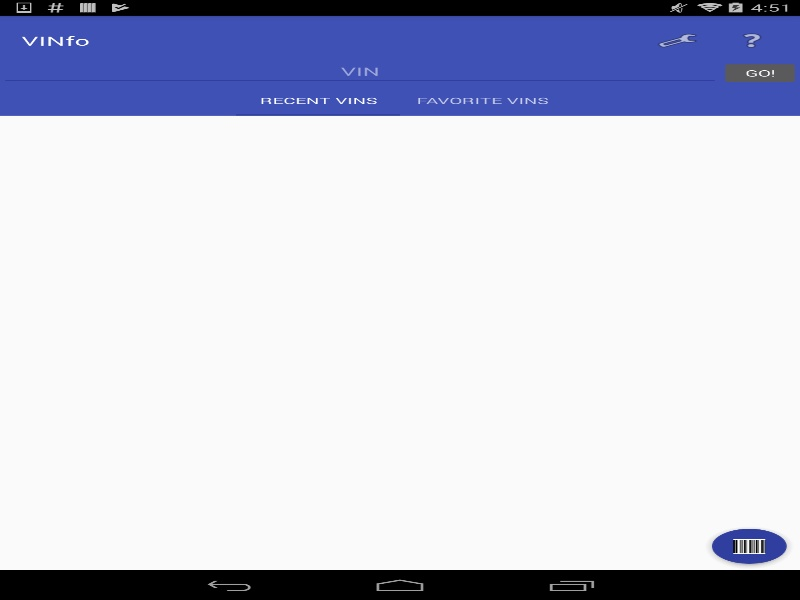Button: (720, 60, 800, 85)
Input: (0, 60, 720, 85)
